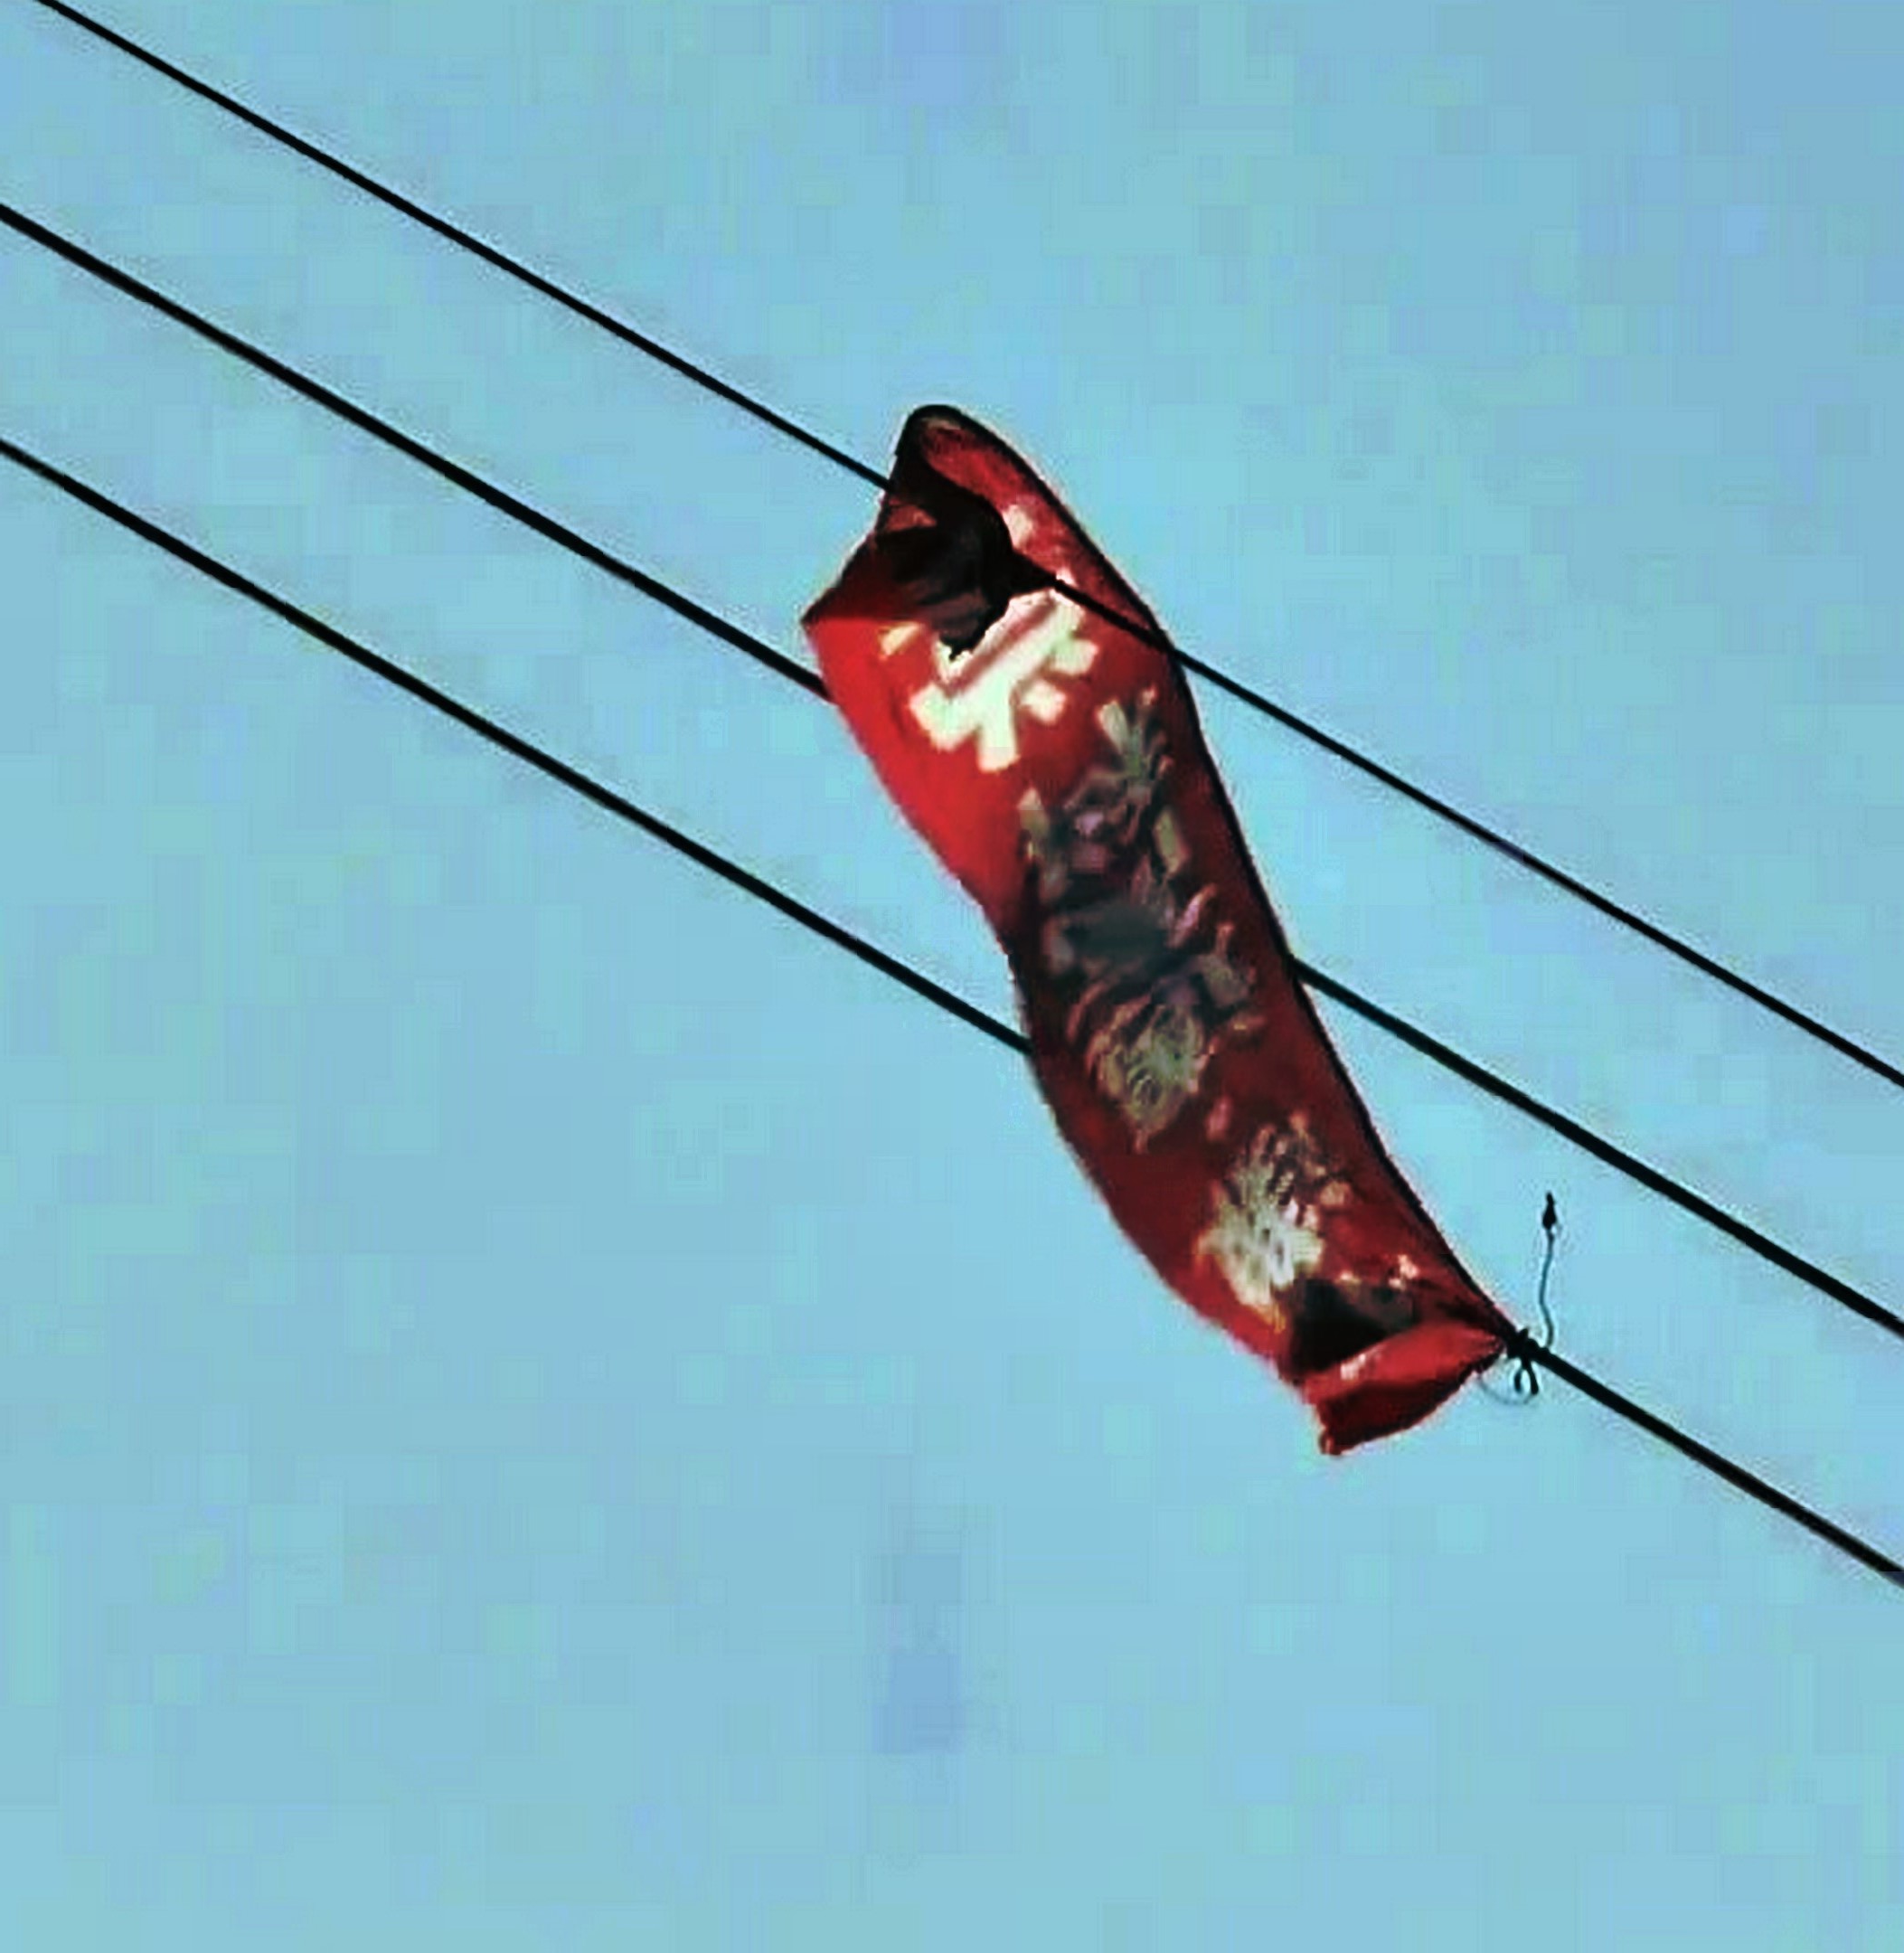wire foreign body: (797, 387, 1547, 1470)
